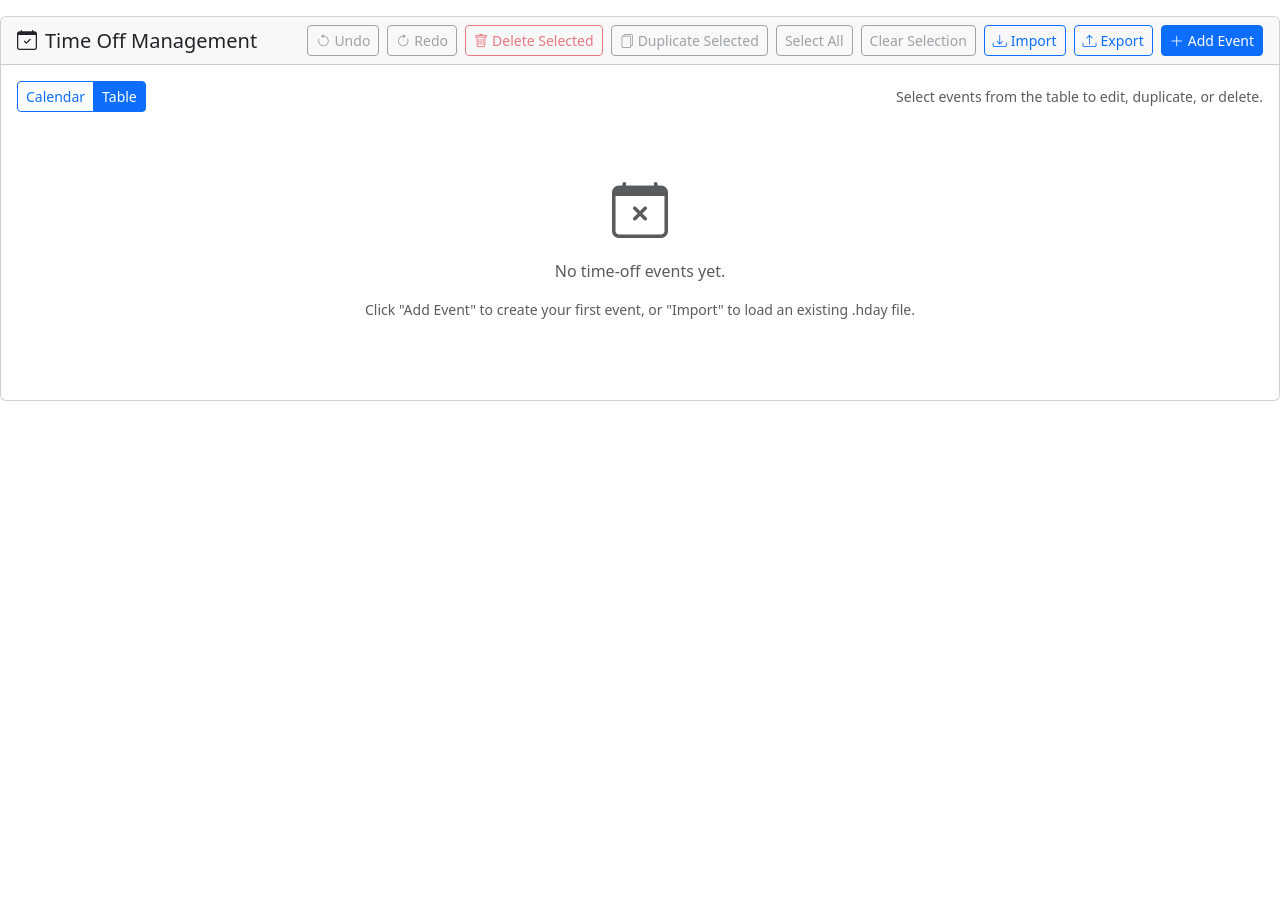
TimeOffView › Delete Event › should show confirmation dialog before deleting
The image size is (1280, 900).
Note: Add event
Click the button "Add Event": click(1212, 40) [1161, 25, 1263, 56]
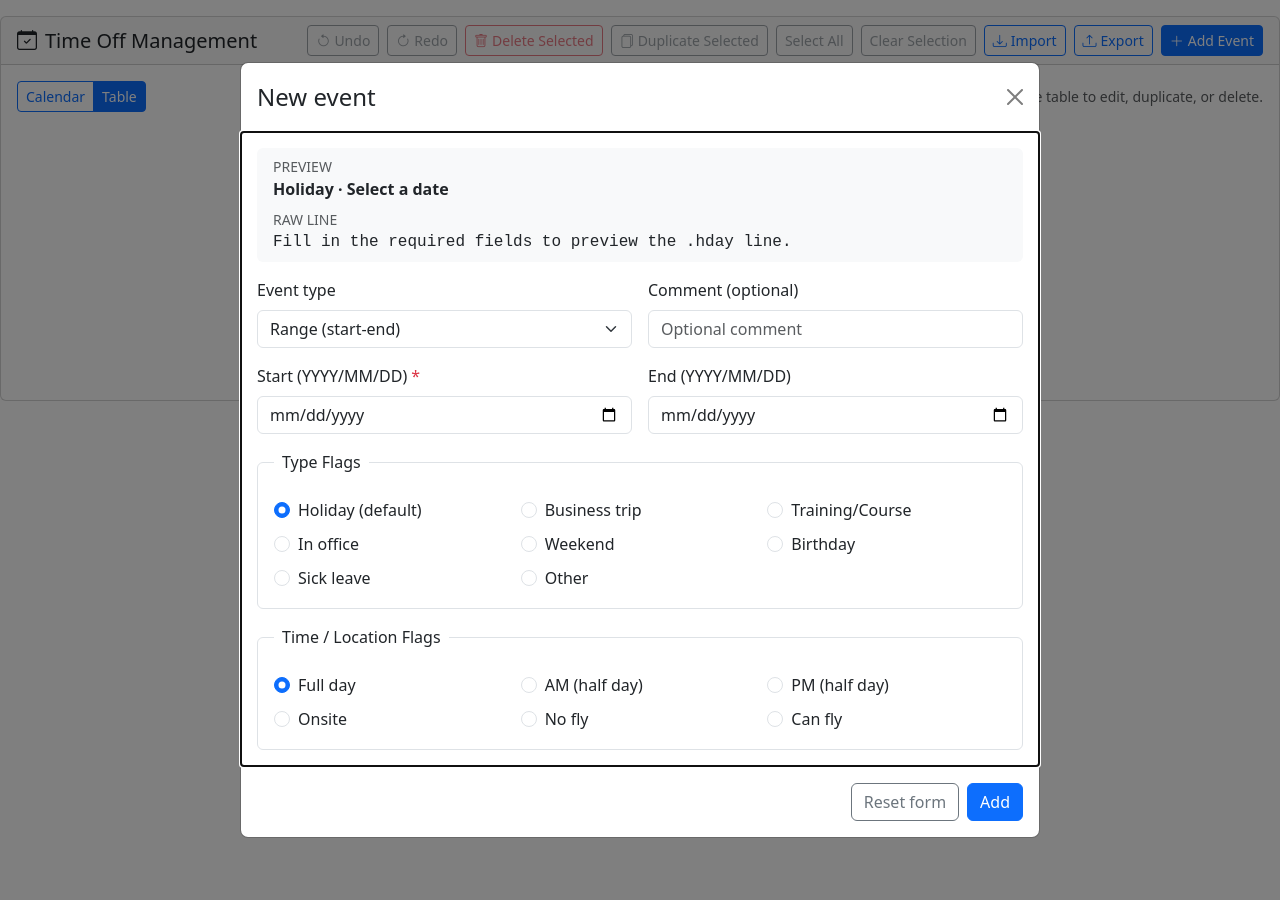
In the date field labelled "Start (YYYY/MM/DD) *": (444, 415) [257, 396, 632, 434], type "2025-01-15"
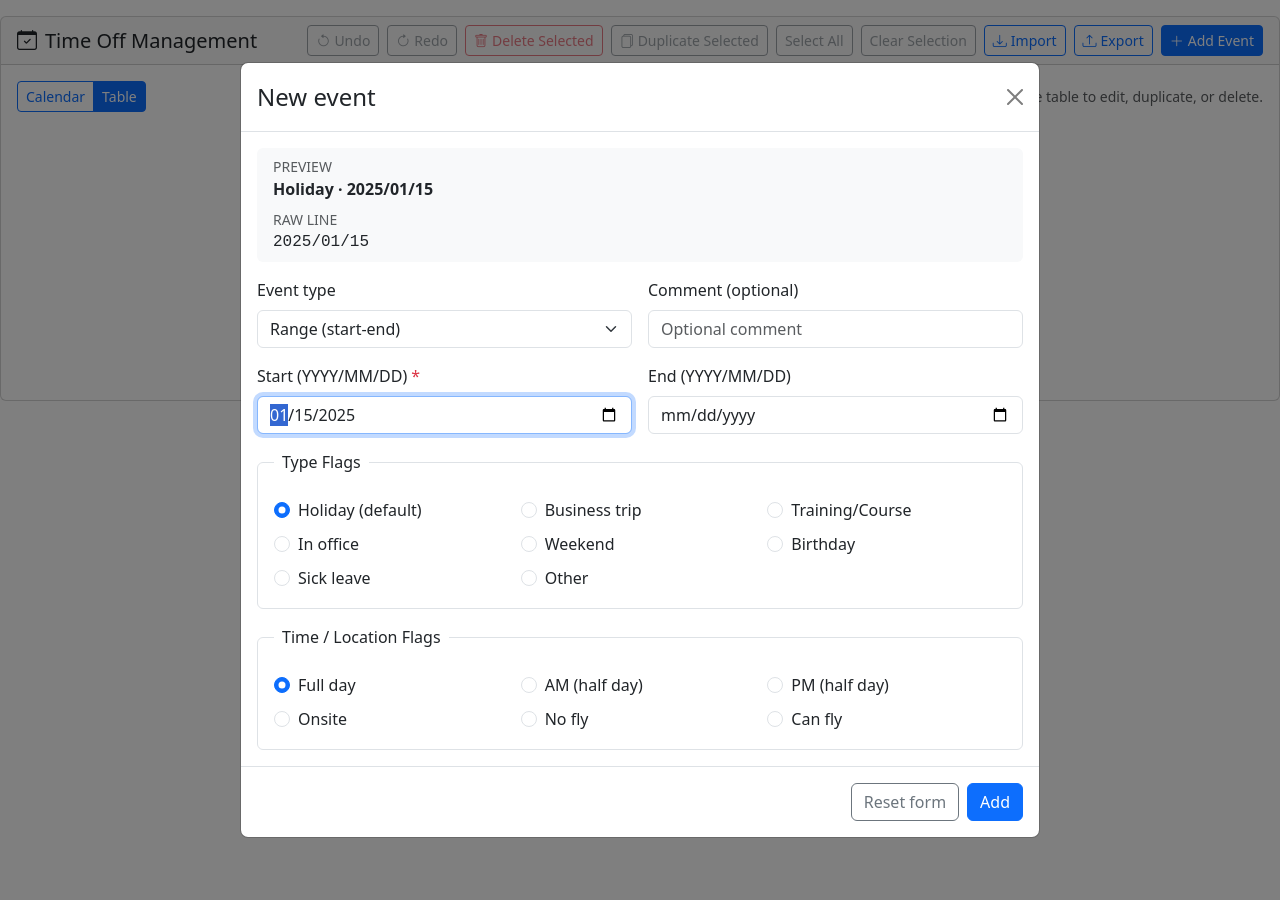
Click the button "Add": click(995, 802) [967, 783, 1023, 821]
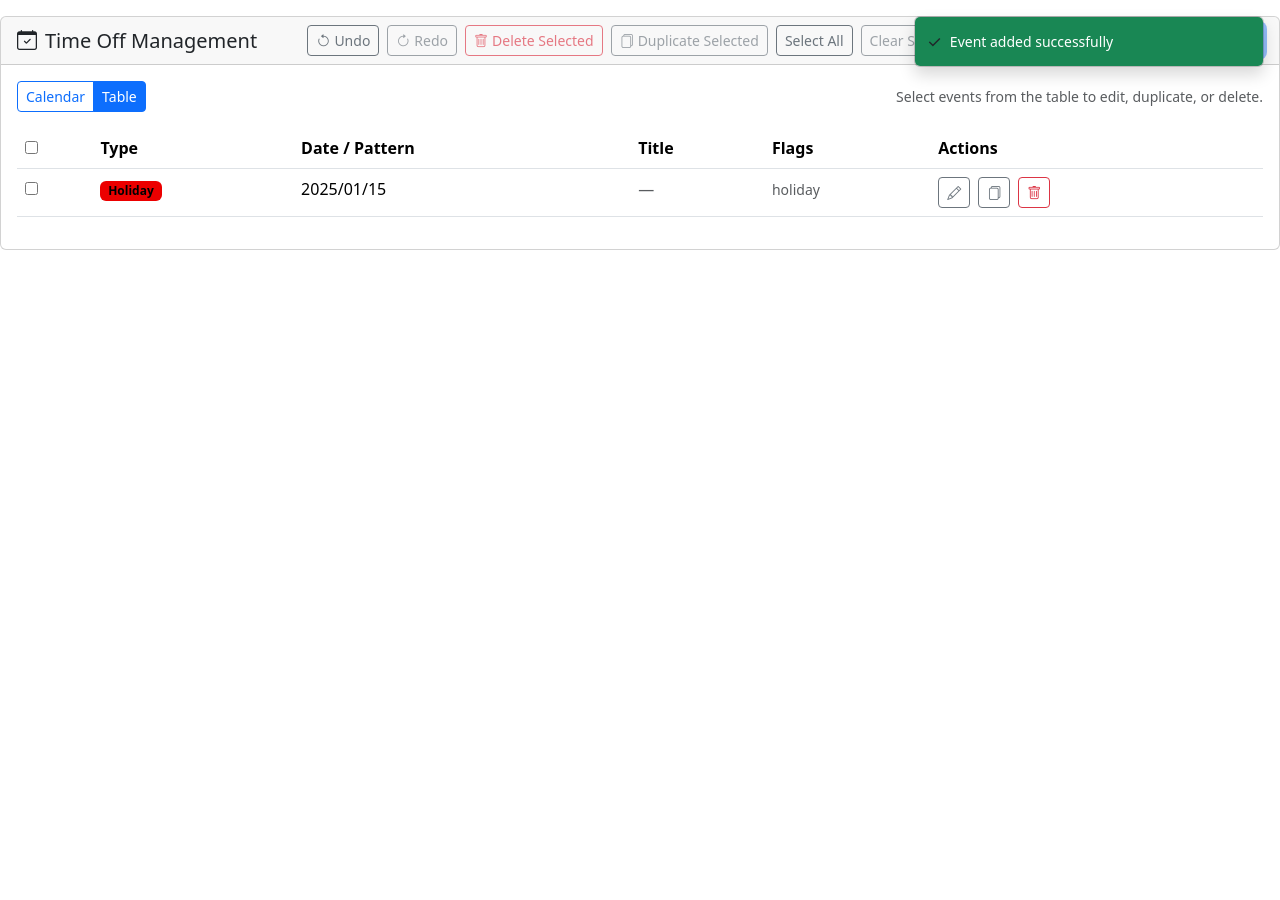
Click the button named "Delete Holiday": click(1034, 192) [1018, 177, 1050, 208]
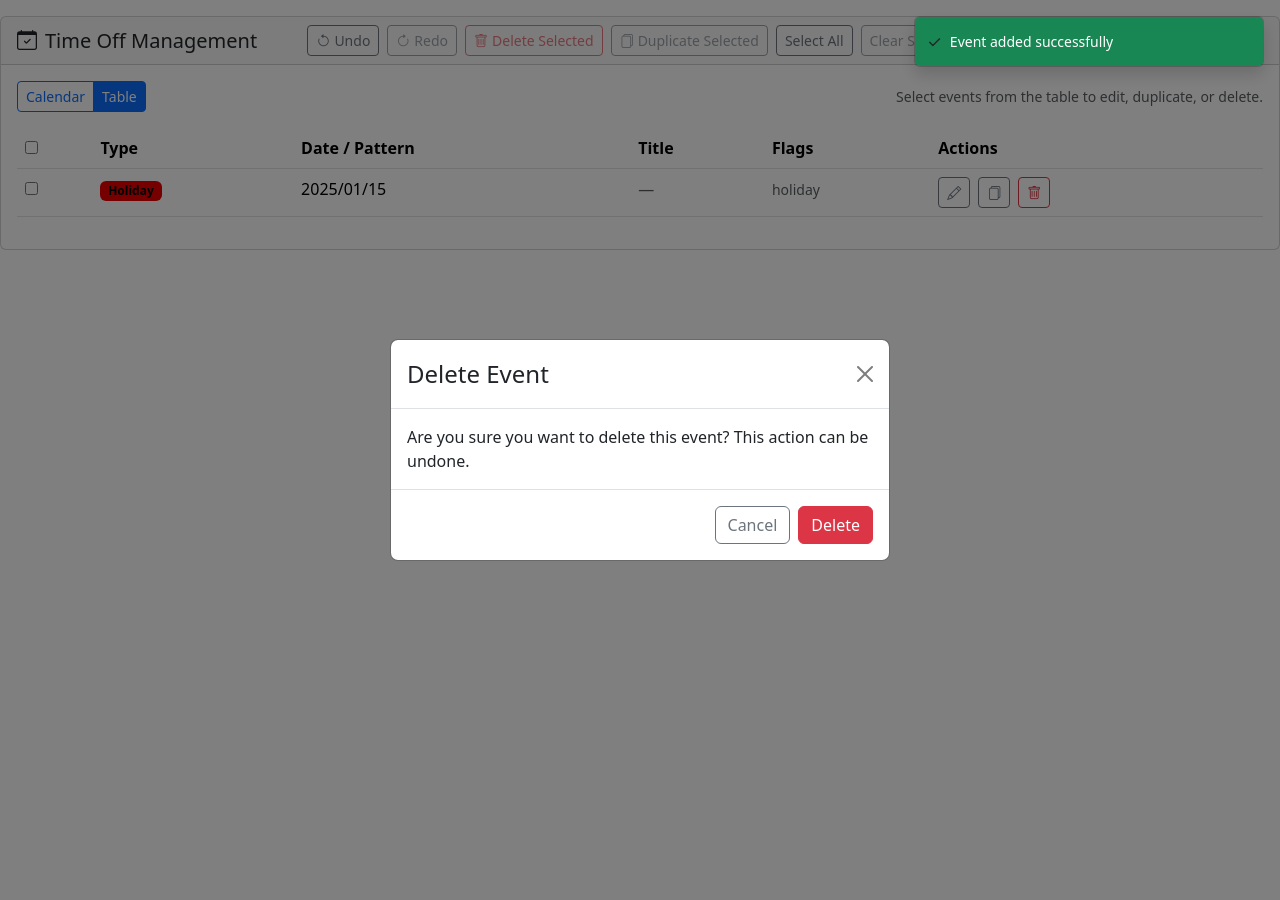
Expected: the text "Delete Event" is shown, [407, 356, 549, 392]
Expected: the text "Are you sure" is shown, [407, 426, 868, 472]
